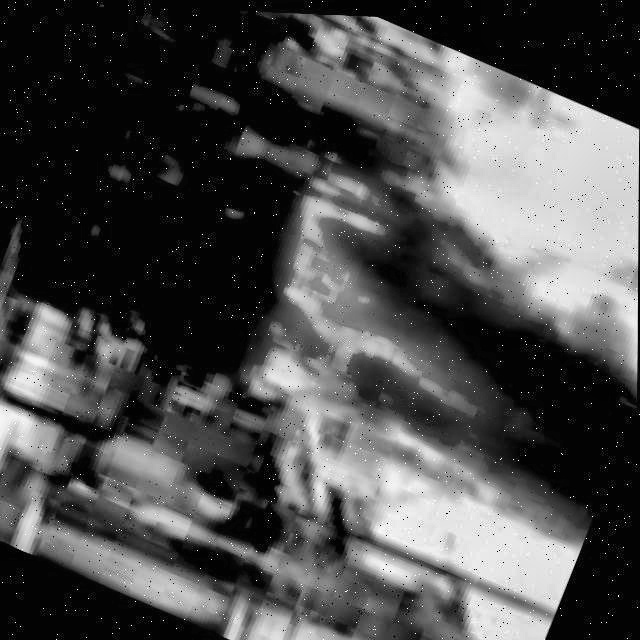Fire: (249, 164, 498, 445), (400, 42, 553, 199)
Smoke: (329, 182, 639, 502)
